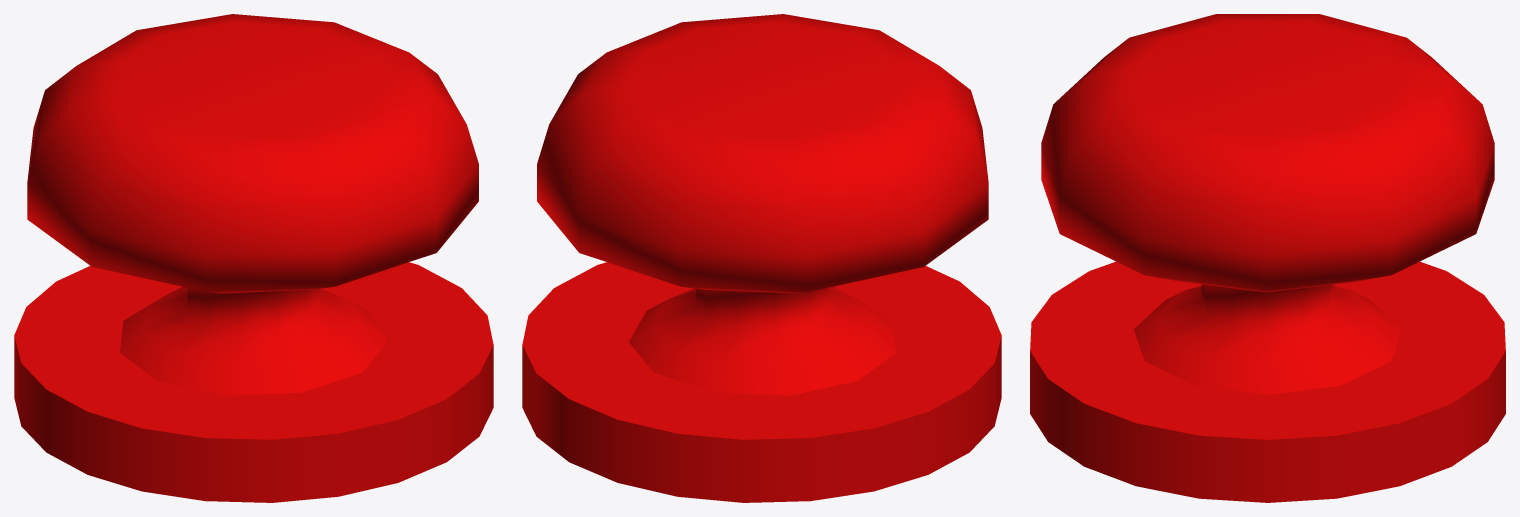
Rendered from button_low.fbx.
3 views of the same model, side by side, from view 1: azimuth 30°, elevation 25°; view 2: azimuth 150°, elevation 25°; view 3: azimuth 270°, elevation 25° (orthographic).
Parts seen in each view (by area): view 1: Button, Base; view 2: Button, Base; view 3: Button, Base.
Boxes of the visible parts, bbox=[...] form: Button: bbox=[27, 14, 478, 395]; Base: bbox=[14, 262, 493, 502]; Button: bbox=[537, 14, 988, 395]; Base: bbox=[522, 262, 1001, 502]; Button: bbox=[1041, 14, 1494, 394]; Base: bbox=[1030, 261, 1505, 502].
Size of the model in its own units: 3.83 by 2.84 by 3.8.
